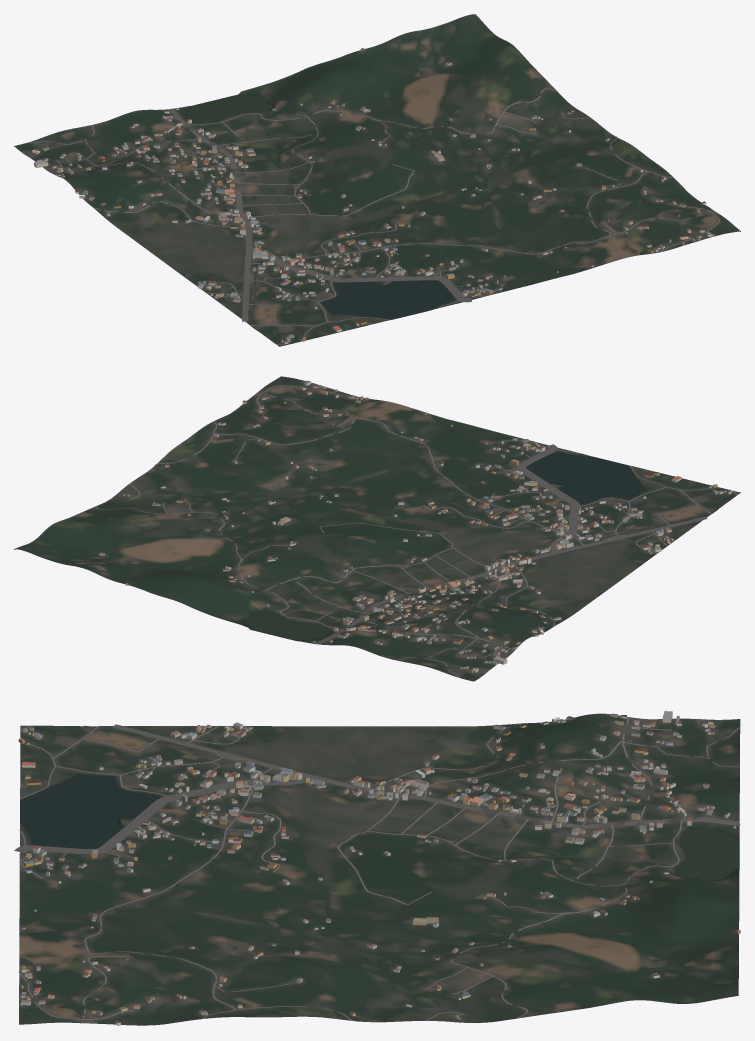
3 views of the same model, one above another, from view 1: azimuth 30°, elevation 25°; view 2: azimuth 150°, elevation 25°; view 3: azimuth 270°, elevation 25° (orthographic). The views are drawn at different scales.
Parts seen in each view (by area): view 1: ground, buildings, roads, water; view 2: ground, buildings, roads, water; view 3: ground, buildings, roads, water.
Part boxes in pixels (<box>): ground: <box>14,14,740,346</box>; buildings: <box>32,48,713,343</box>; roads: <box>27,88,719,345</box>; water: <box>186,95,454,329</box>; ground: <box>14,376,740,681</box>; buildings: <box>99,380,732,672</box>; roads: <box>96,385,737,678</box>; water: <box>243,452,717,640</box>; ground: <box>19,713,740,1025</box>; buildings: <box>18,711,740,1025</box>; roads: <box>14,716,740,1023</box>; water: <box>20,725,738,880</box>.
Bounding box in the file's own units: 1419 × 80 × 1416.
